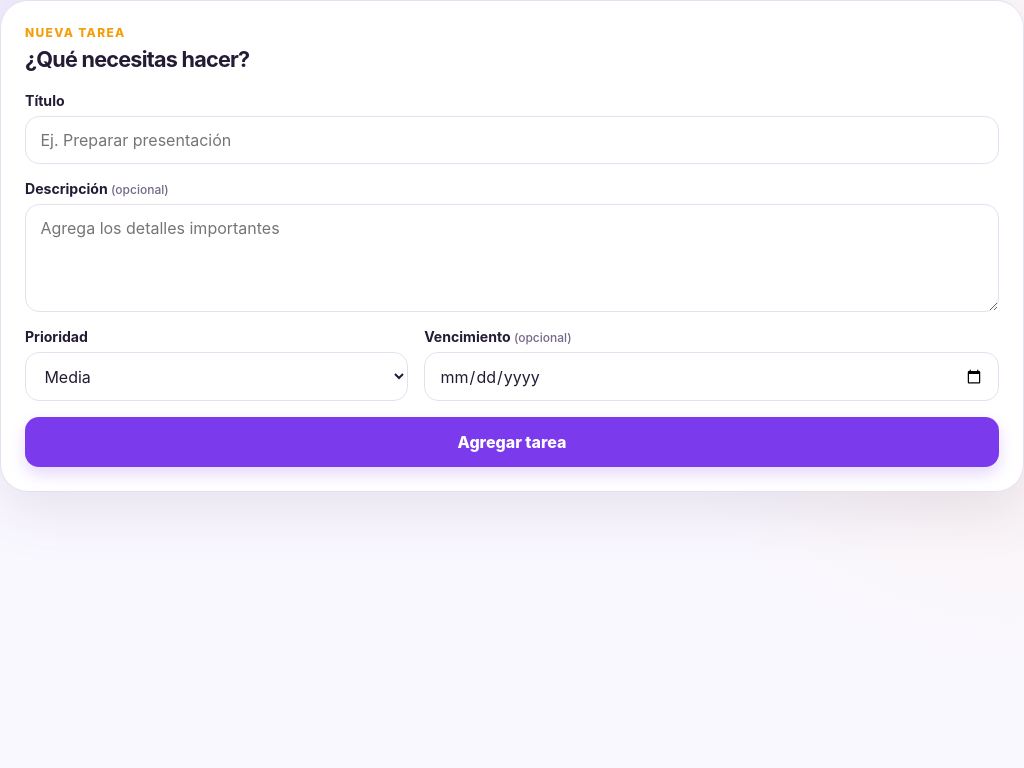
Test: TodoForm › muestra errores y no crea una tarea con datos inválidos
What coordinates should you click on to do the following:
click the button "Agregar tarea"
I would click on:
 (512, 442)
Its box is top-left (25, 417), bottom-right (999, 467).
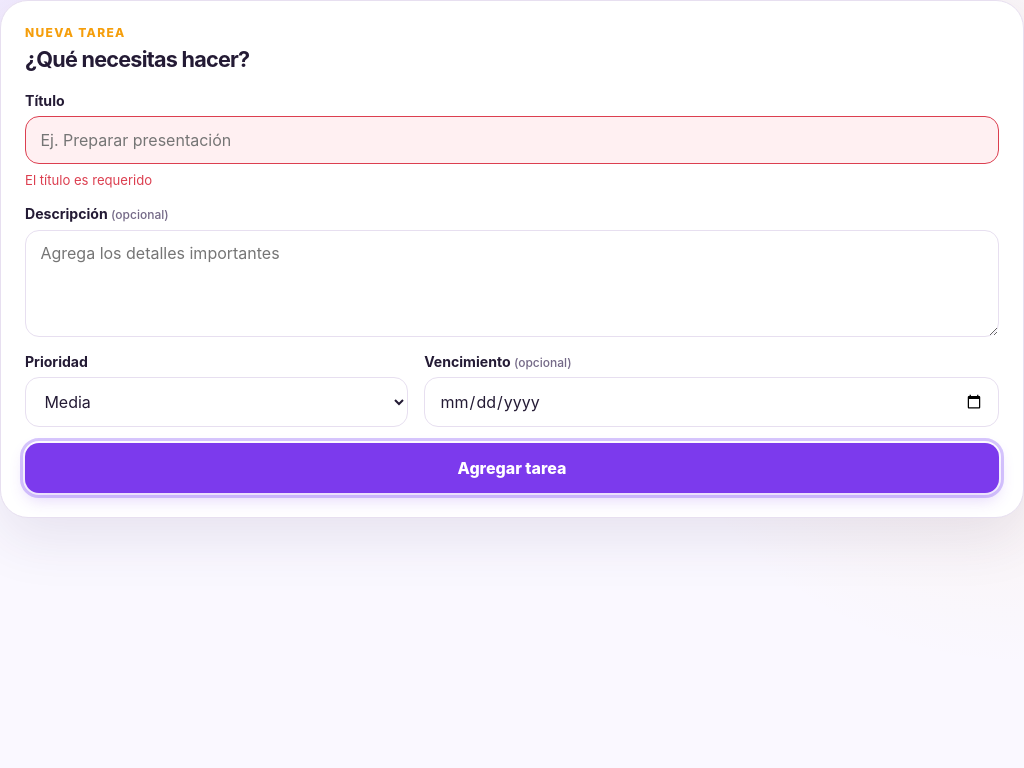
Expected: the text "El título es requerido" is shown, top-left (25, 172), bottom-right (152, 188)
